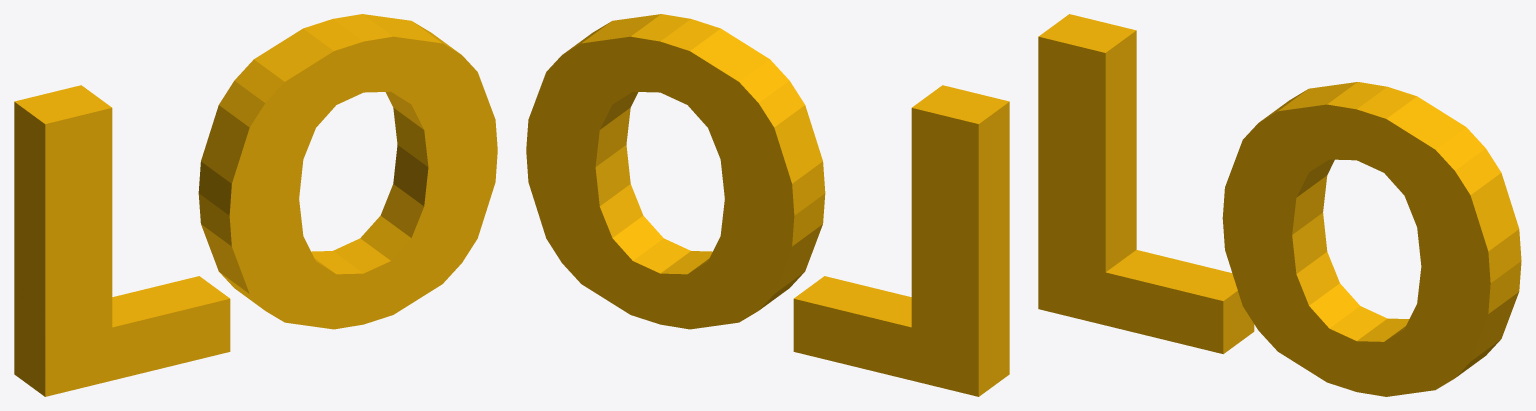
The model's file is suku_besar_lo.glb.
3 views of the same model, side by side, from view 1: azimuth 30°, elevation 25°; view 2: azimuth 150°, elevation 25°; view 3: azimuth 330°, elevation 25° (orthographic).
Visible parts, largest first — view 1: geometry_0; view 2: geometry_0; view 3: geometry_0.
Boxes of the visible parts, x1,y1,x2,y2 form: geometry_0: (14, 14, 497, 396); geometry_0: (526, 14, 1009, 396); geometry_0: (1038, 14, 1521, 396).
Bounding box in the file's own units: 12.66 × 7.56 × 1.5.
